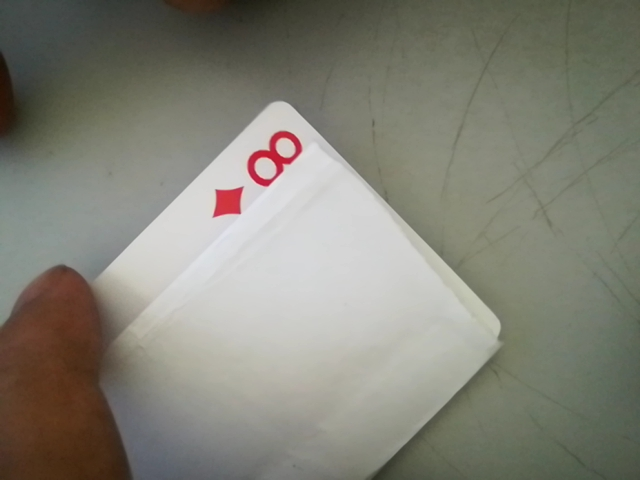fk 8: (206, 121, 318, 224)
